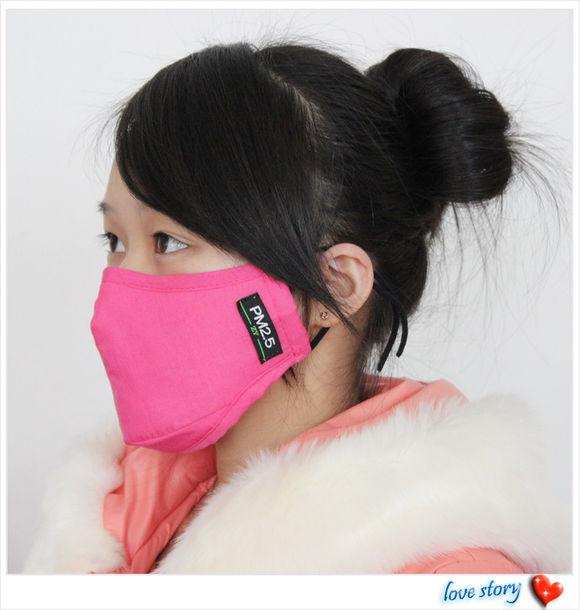OK: (78, 199, 329, 450)
